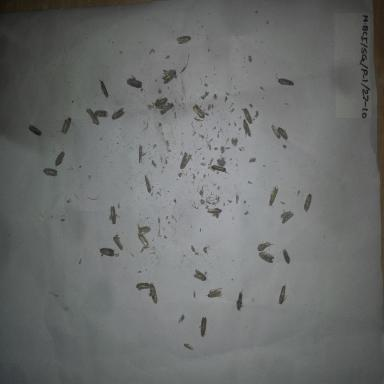pbw: (132, 214, 154, 234), (267, 181, 281, 209), (241, 117, 256, 142), (161, 66, 178, 86), (138, 232, 154, 253), (140, 171, 154, 194), (243, 104, 257, 127), (198, 315, 211, 339), (178, 150, 192, 172), (206, 286, 224, 303), (126, 74, 145, 90), (61, 113, 73, 138), (234, 287, 246, 312), (98, 246, 118, 261), (85, 107, 100, 127), (276, 284, 288, 308), (279, 211, 295, 229), (192, 268, 210, 284), (158, 101, 174, 119), (275, 74, 295, 88), (258, 249, 275, 265), (92, 106, 110, 121), (108, 204, 120, 226), (154, 94, 169, 111), (111, 107, 126, 124), (212, 163, 229, 178), (206, 206, 227, 218), (280, 124, 292, 144), (302, 192, 314, 212), (112, 235, 126, 252), (192, 104, 206, 121), (99, 78, 110, 99), (28, 124, 44, 138), (182, 341, 198, 355), (148, 282, 158, 304), (270, 123, 282, 141), (54, 150, 66, 168), (278, 207, 293, 221), (43, 166, 59, 179), (138, 144, 147, 167), (257, 240, 274, 252), (175, 35, 192, 46), (282, 248, 292, 266), (136, 281, 152, 292)
